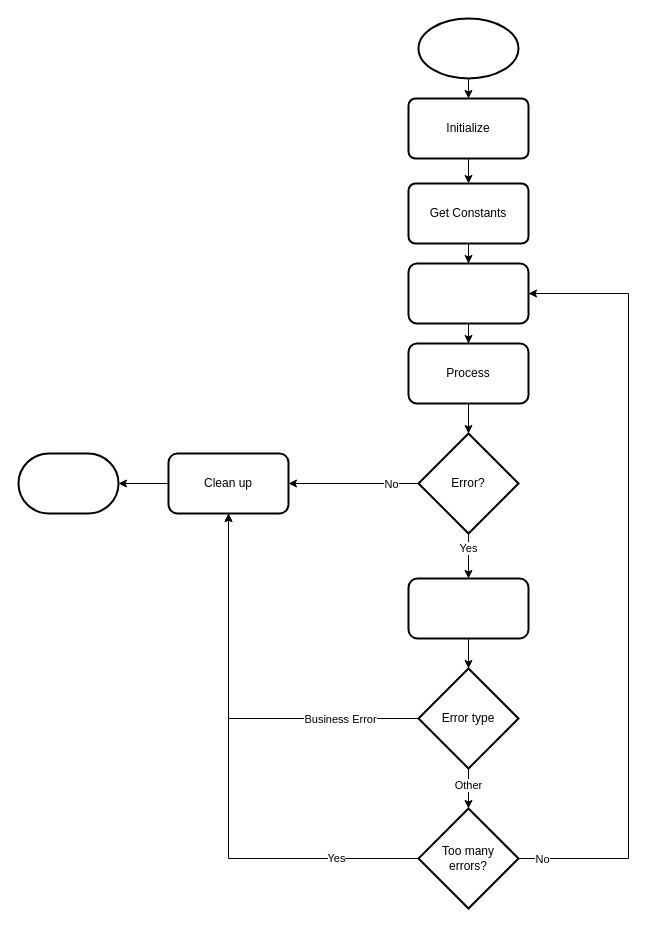
The diagram is 654 pixels wide and 926 high, and some of its shapes have lost their labels. The centre of each missing label's shape, as x and y in pixels:
"End" goes at (68,483).
"Reset" goes at (468,293).
"Send error screenshot" goes at (468,608).
"Start" goes at (468,48).
